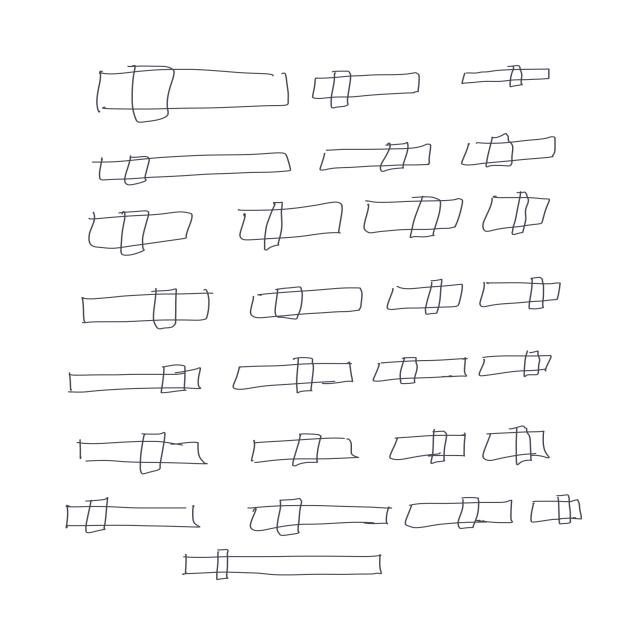Slider: (71, 48, 302, 139), (83, 148, 302, 187), (173, 546, 394, 584), (60, 421, 208, 476), (54, 287, 225, 331), (308, 59, 430, 120), (74, 202, 194, 262), (49, 494, 204, 538), (237, 494, 398, 536), (228, 198, 352, 252), (235, 426, 369, 474), (56, 360, 212, 400), (227, 355, 358, 402), (359, 188, 465, 245), (454, 124, 568, 176), (468, 182, 559, 242), (452, 54, 556, 105), (397, 492, 522, 534), (235, 280, 366, 320), (379, 420, 475, 466), (370, 348, 472, 389), (474, 274, 572, 316), (475, 418, 557, 468), (380, 274, 466, 318), (313, 138, 438, 168), (475, 345, 558, 384), (522, 489, 598, 526)
